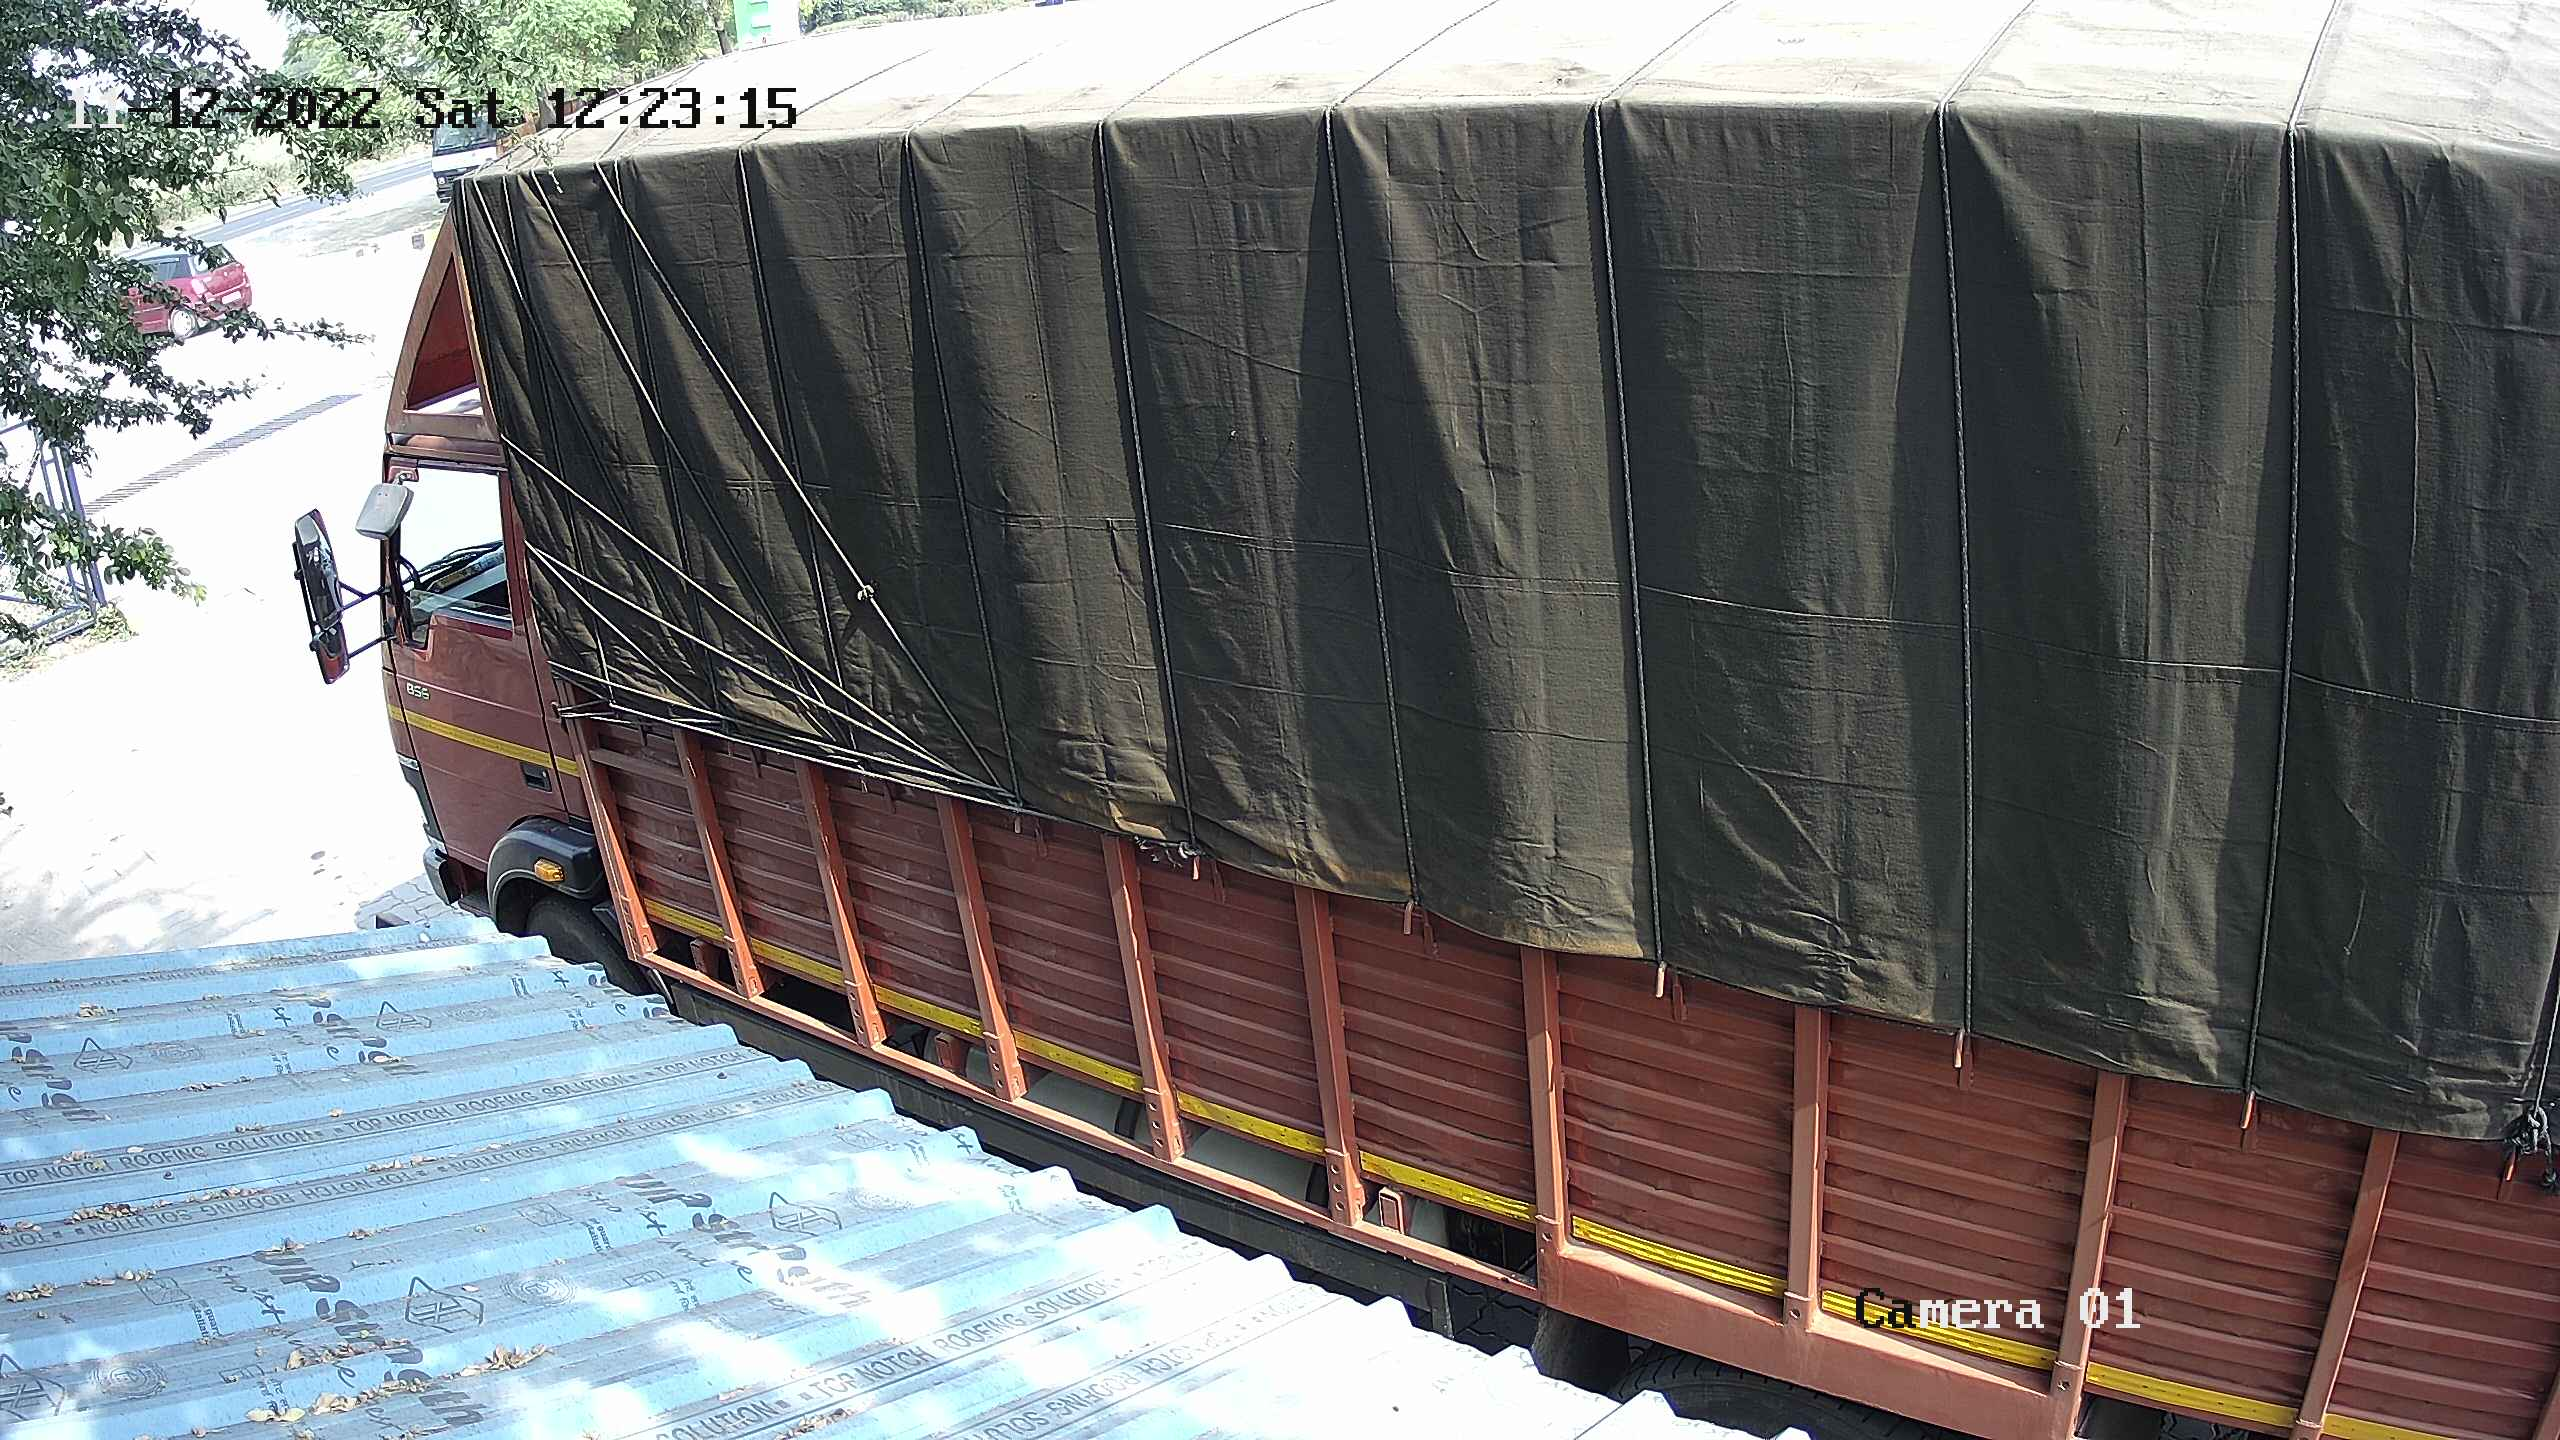Car: (56, 220, 265, 366)
HMV: (274, 0, 2558, 1436), (411, 67, 549, 227)
